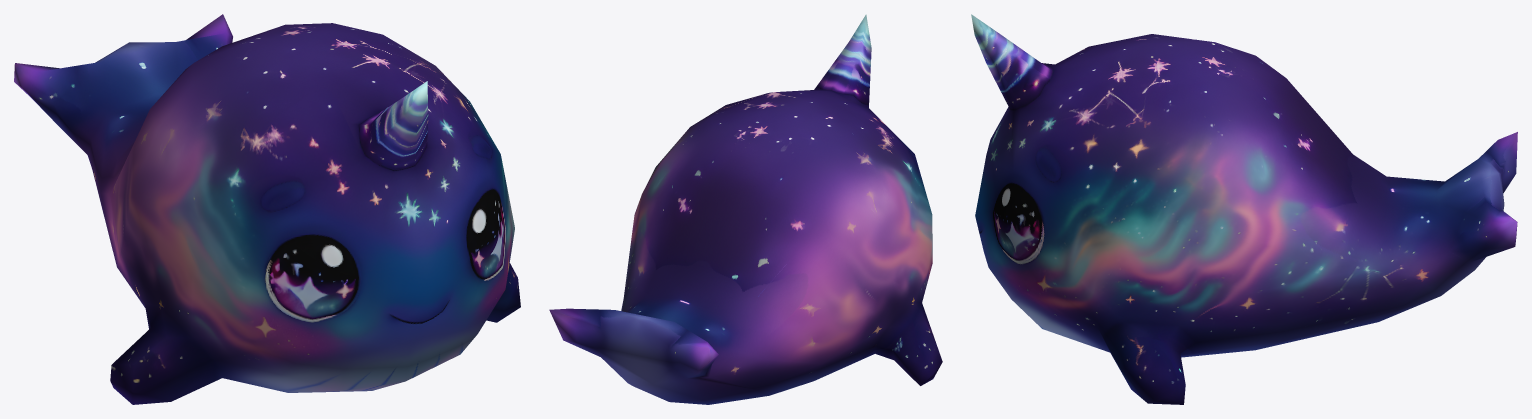
The model's file is cosmic-whale-game-340.glb.
3 renders of one model, left to right at view 1: azimuth 30°, elevation 25°; view 2: azimuth 150°, elevation 25°; view 3: azimuth 270°, elevation 25°, orthographic. The views are drawn at different scales.
Parts seen in each view (by area): view 1: material; view 2: material; view 3: material.
Part boxes in pixels (<box>): material: <box>14,14,520,404</box>; material: <box>549,14,942,404</box>; material: <box>971,14,1517,404</box>.
Bounding box in the file's own units: 0.7495 × 0.6417 × 0.9968.
Materials: 1 (1 with a texture image).
